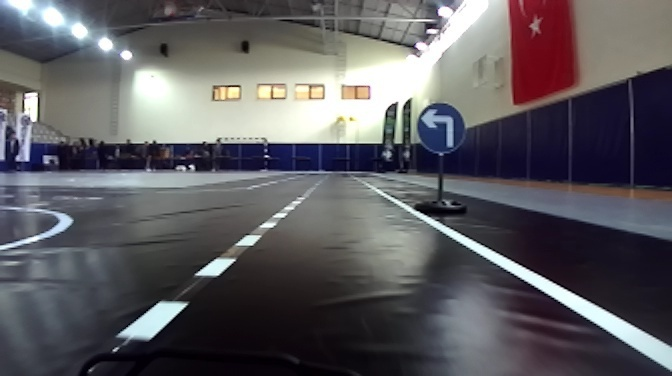sola_donus: (415, 98, 471, 151)
